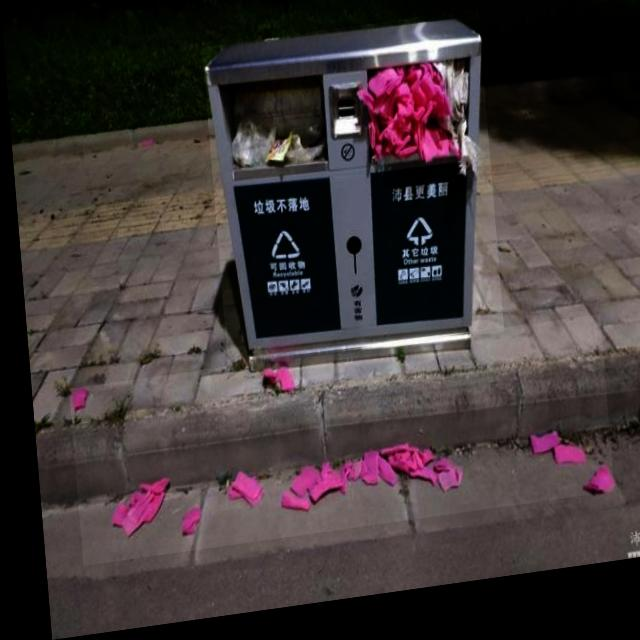garbage: (62, 331, 604, 567)
overflow: (201, 23, 498, 388)
